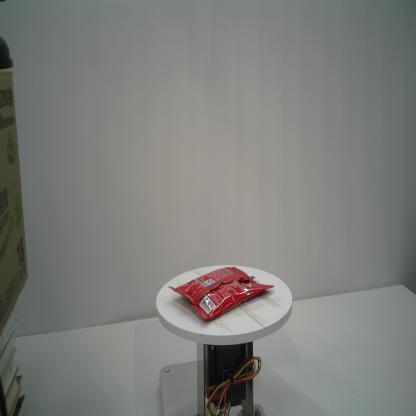Instant Drink: (167, 265, 274, 321)
